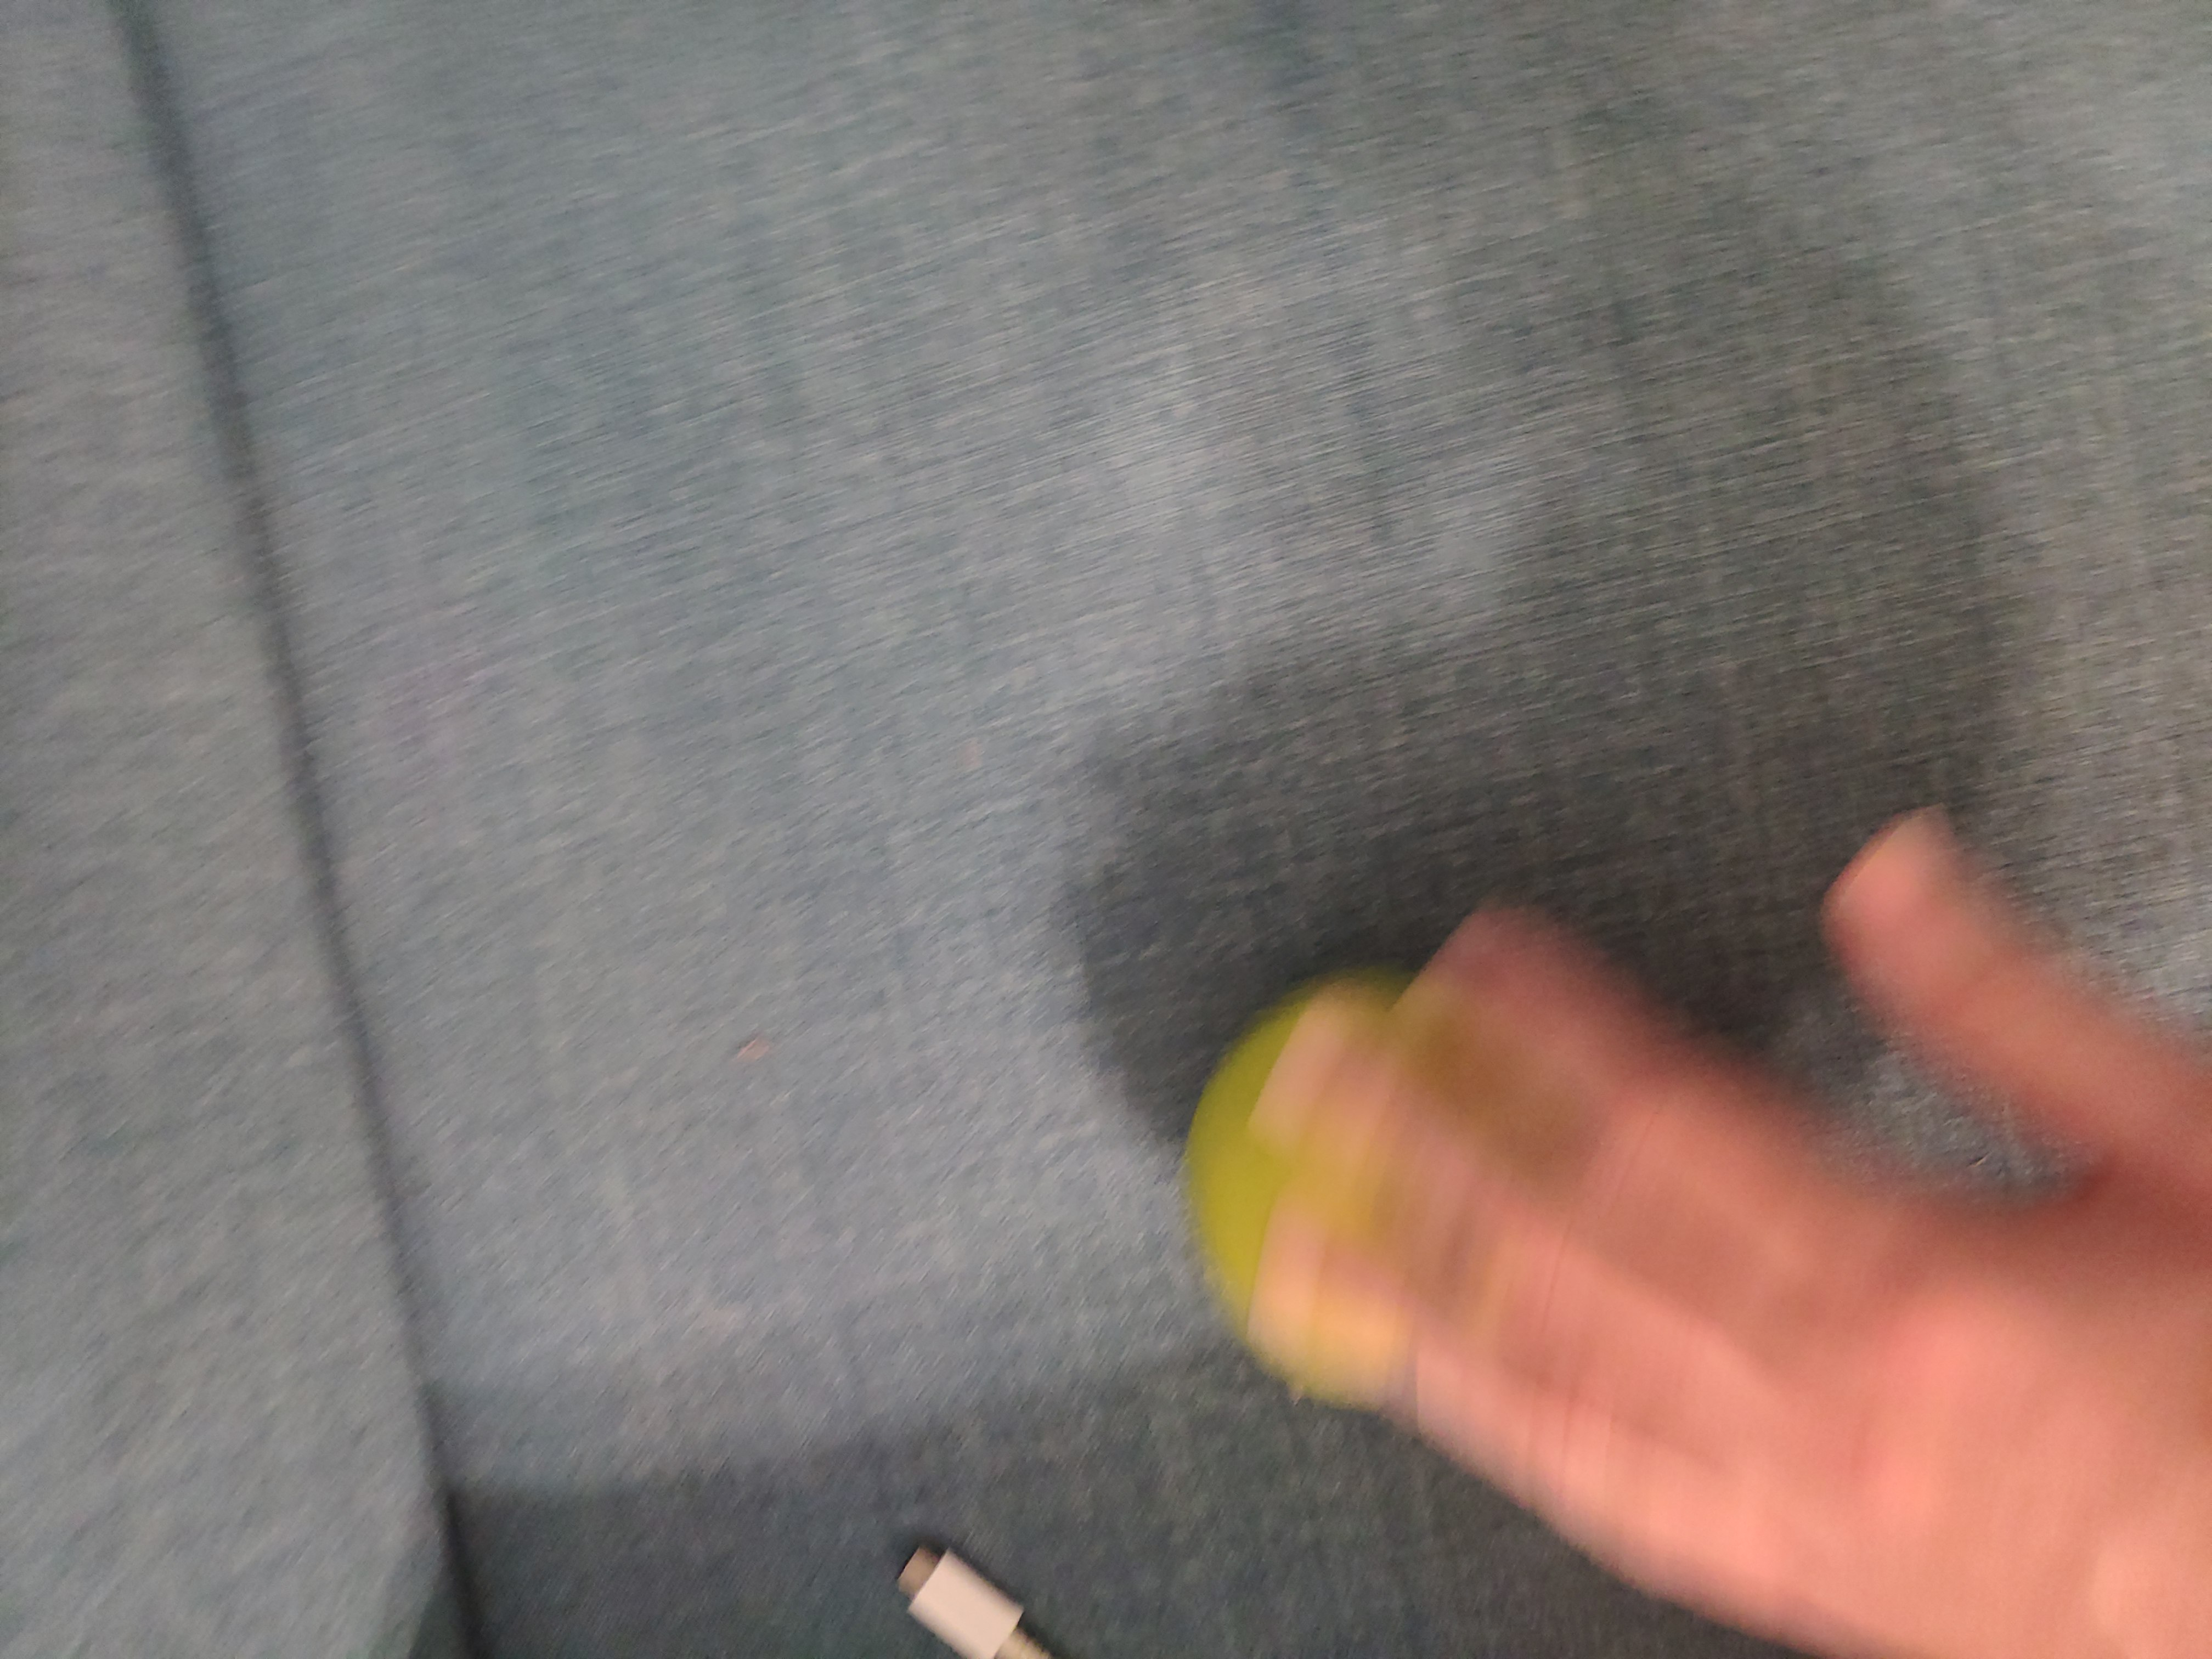apple: (1082, 946, 1731, 1459)
